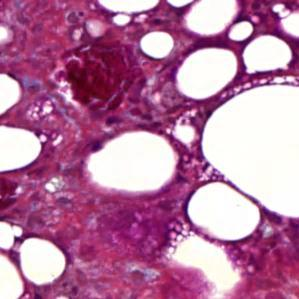steatosis: (184, 175, 259, 239), (171, 44, 241, 99), (15, 238, 70, 284), (137, 29, 176, 57)
